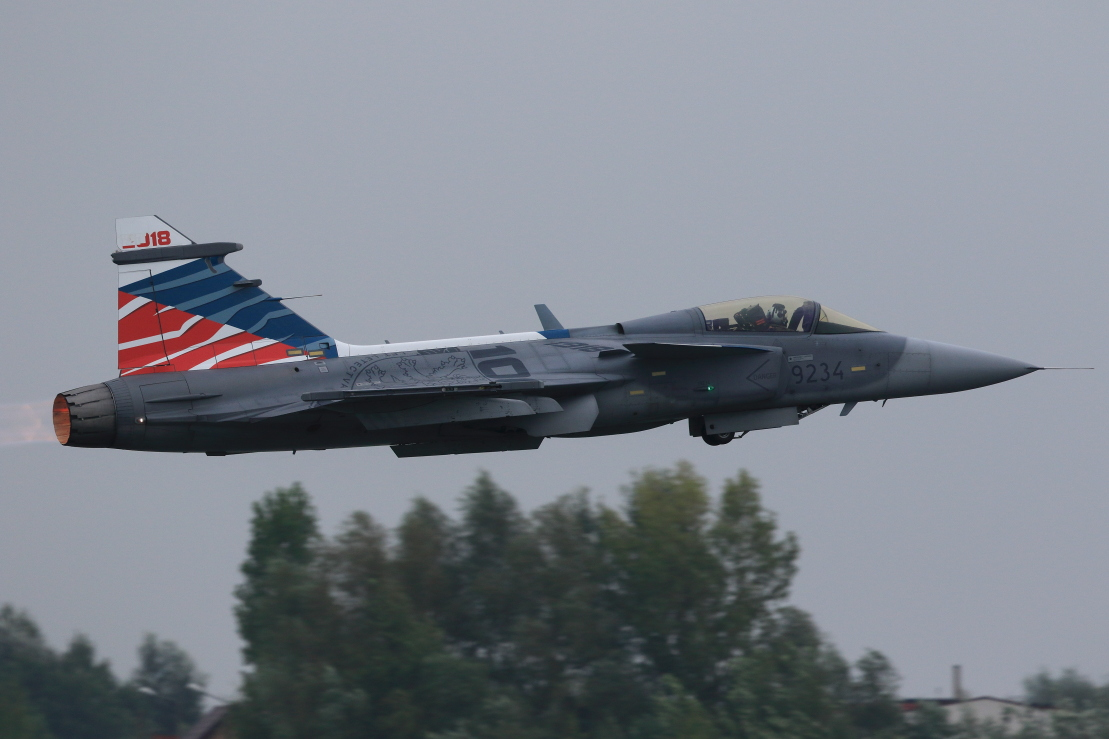JAS39: (52, 214, 1099, 460)
